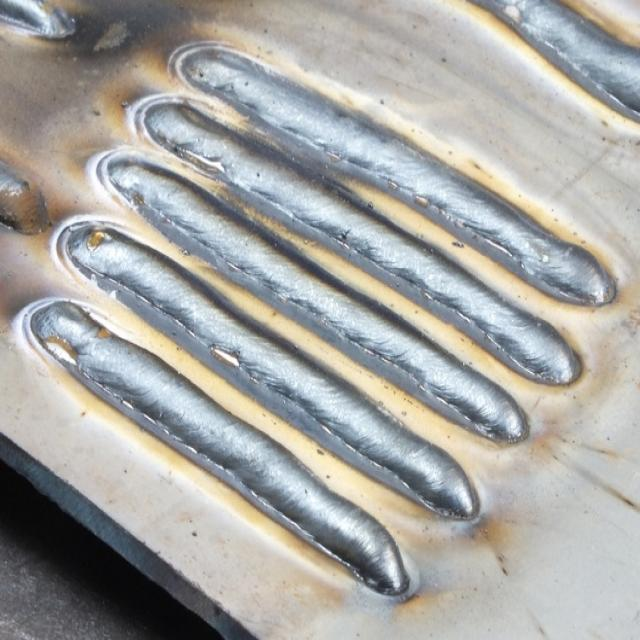Good Weld: (91, 39, 621, 548)
